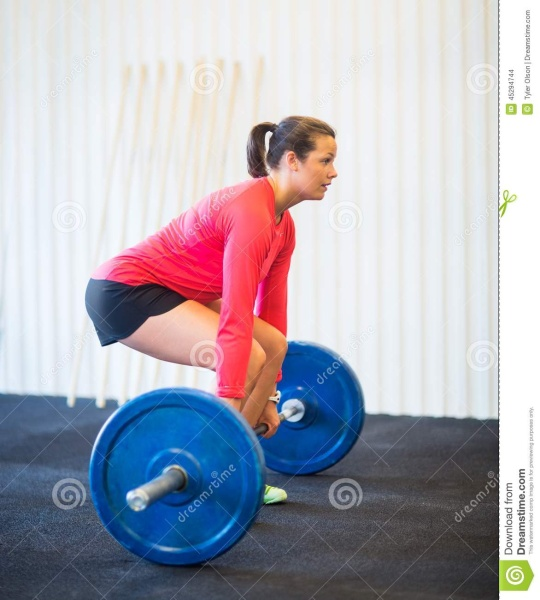barbell: (85, 383, 267, 574)
